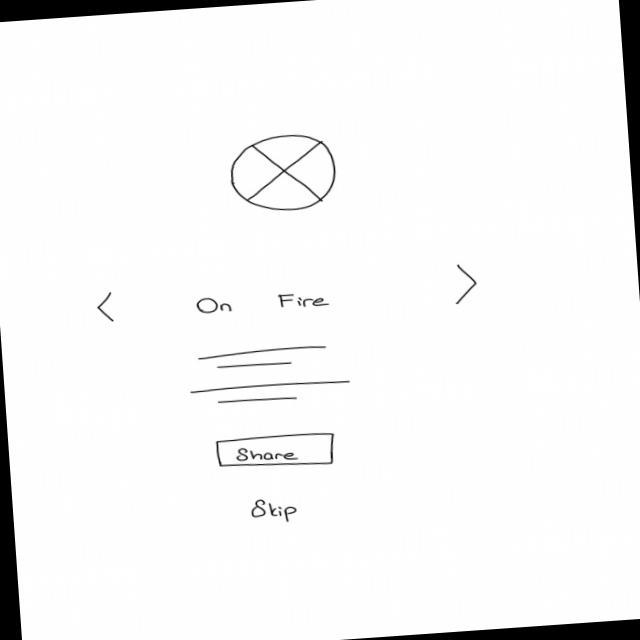button: (216, 432, 339, 474)
image: (226, 131, 342, 217)
label: (247, 495, 302, 527)
link: (94, 260, 481, 335)
textbox: (185, 341, 354, 411)
